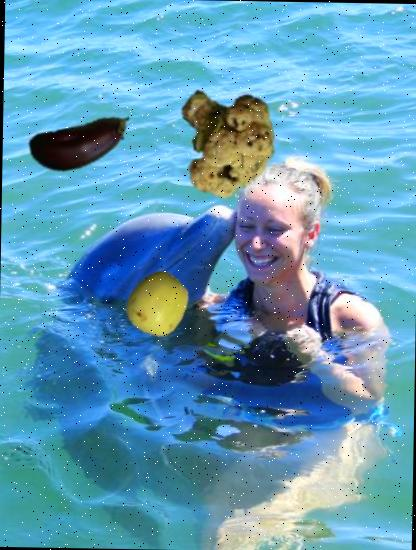Apple: (125, 270, 190, 336)
Cauliflower: (164, 81, 280, 198)
Eggplant: (26, 91, 135, 200)
